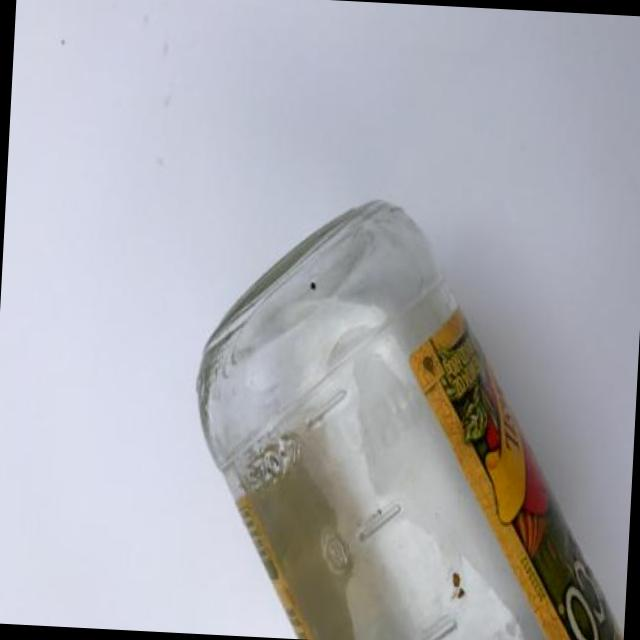chai_thuy_tinh: (197, 203, 624, 640)
